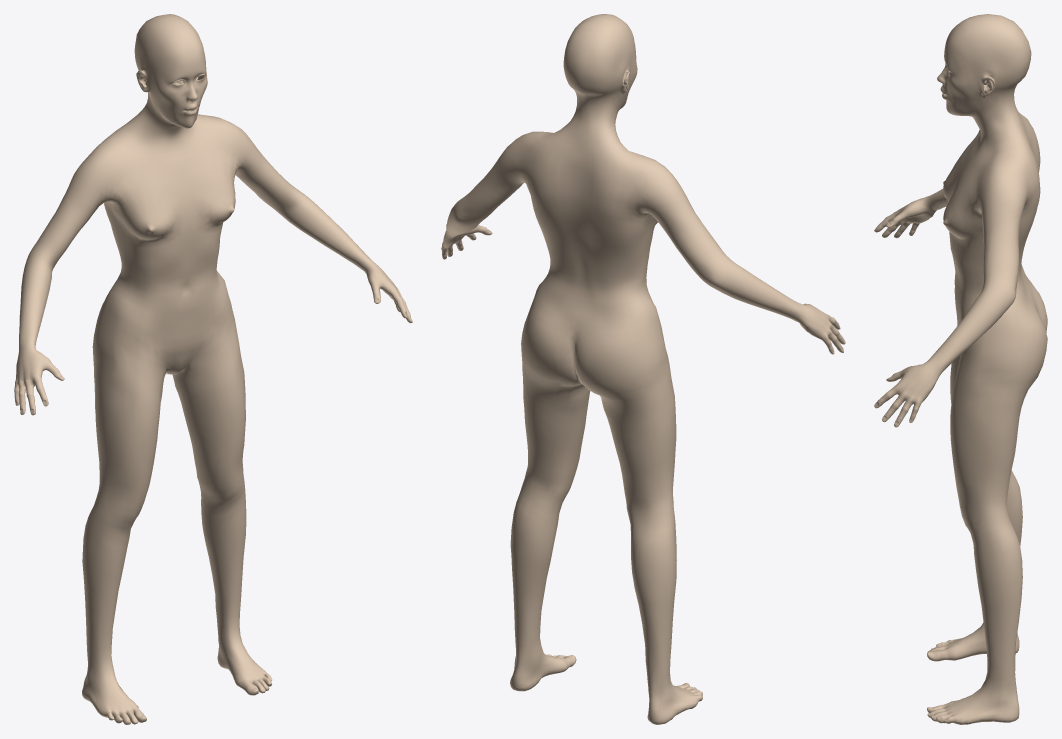
Rendered from mei_body.fbx.
3 views of the same model, side by side, from view 1: azimuth 30°, elevation 25°; view 2: azimuth 150°, elevation 25°; view 3: azimuth 270°, elevation 25° (orthographic).
Visible parts, largest first — view 1: Human; view 2: Human; view 3: Human.
Boxes of the visible parts, x1=… form: Human: x1=14, y1=14, x2=412, y2=724; Human: x1=441, y1=14, x2=845, y2=724; Human: x1=874, y1=14, x2=1047, y2=724.
Bounding box in the file's own units: 99.16 × 163 × 38.2.
